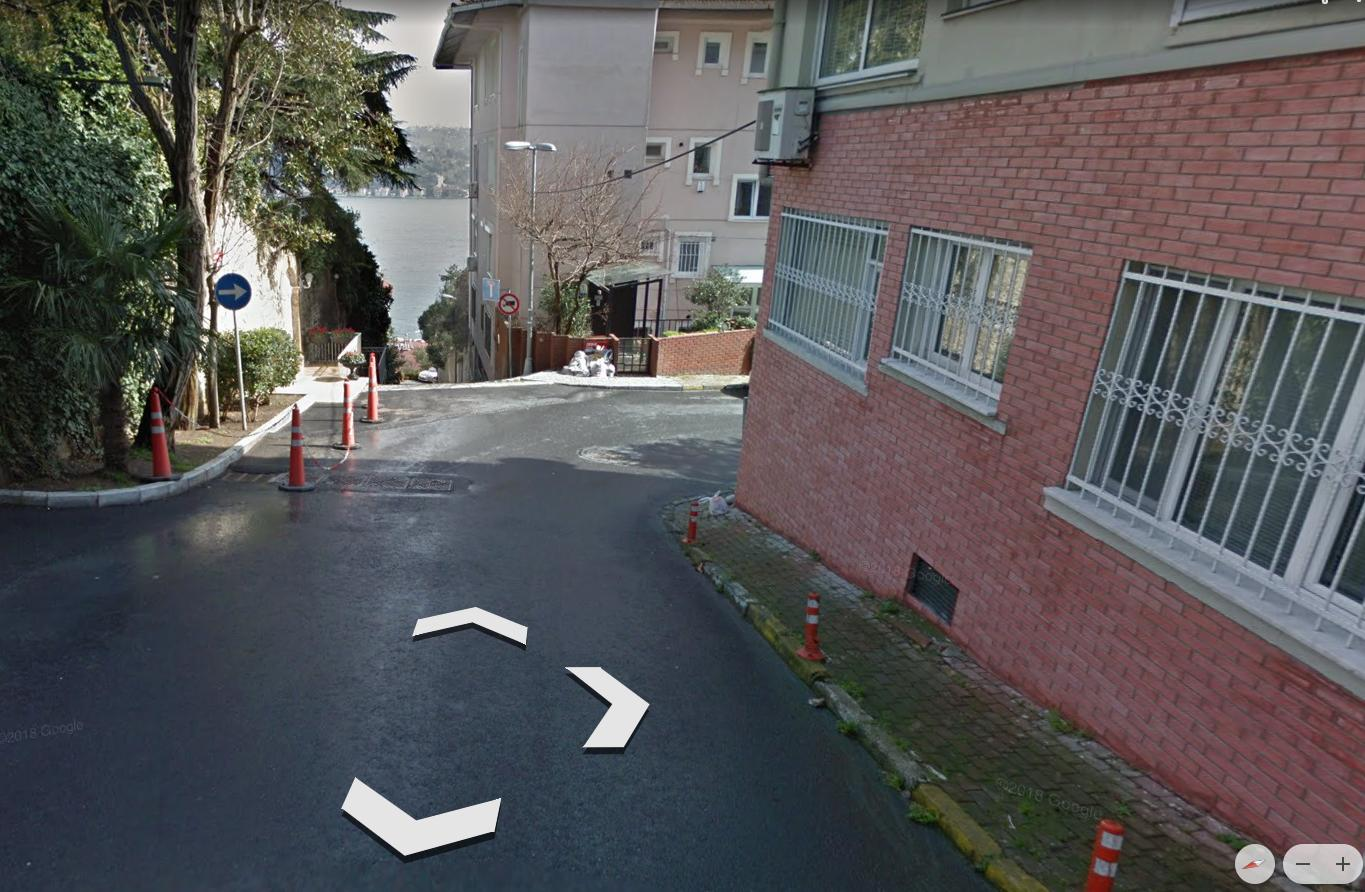turnright: (215, 272, 250, 310)
